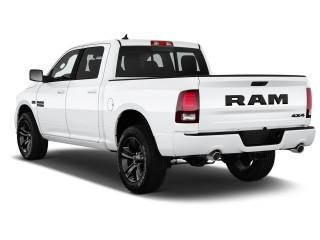ram: (220, 90, 295, 108)
